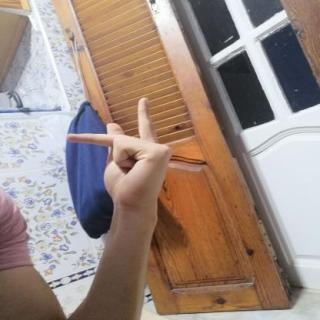DHAA: (55, 89, 183, 218)
